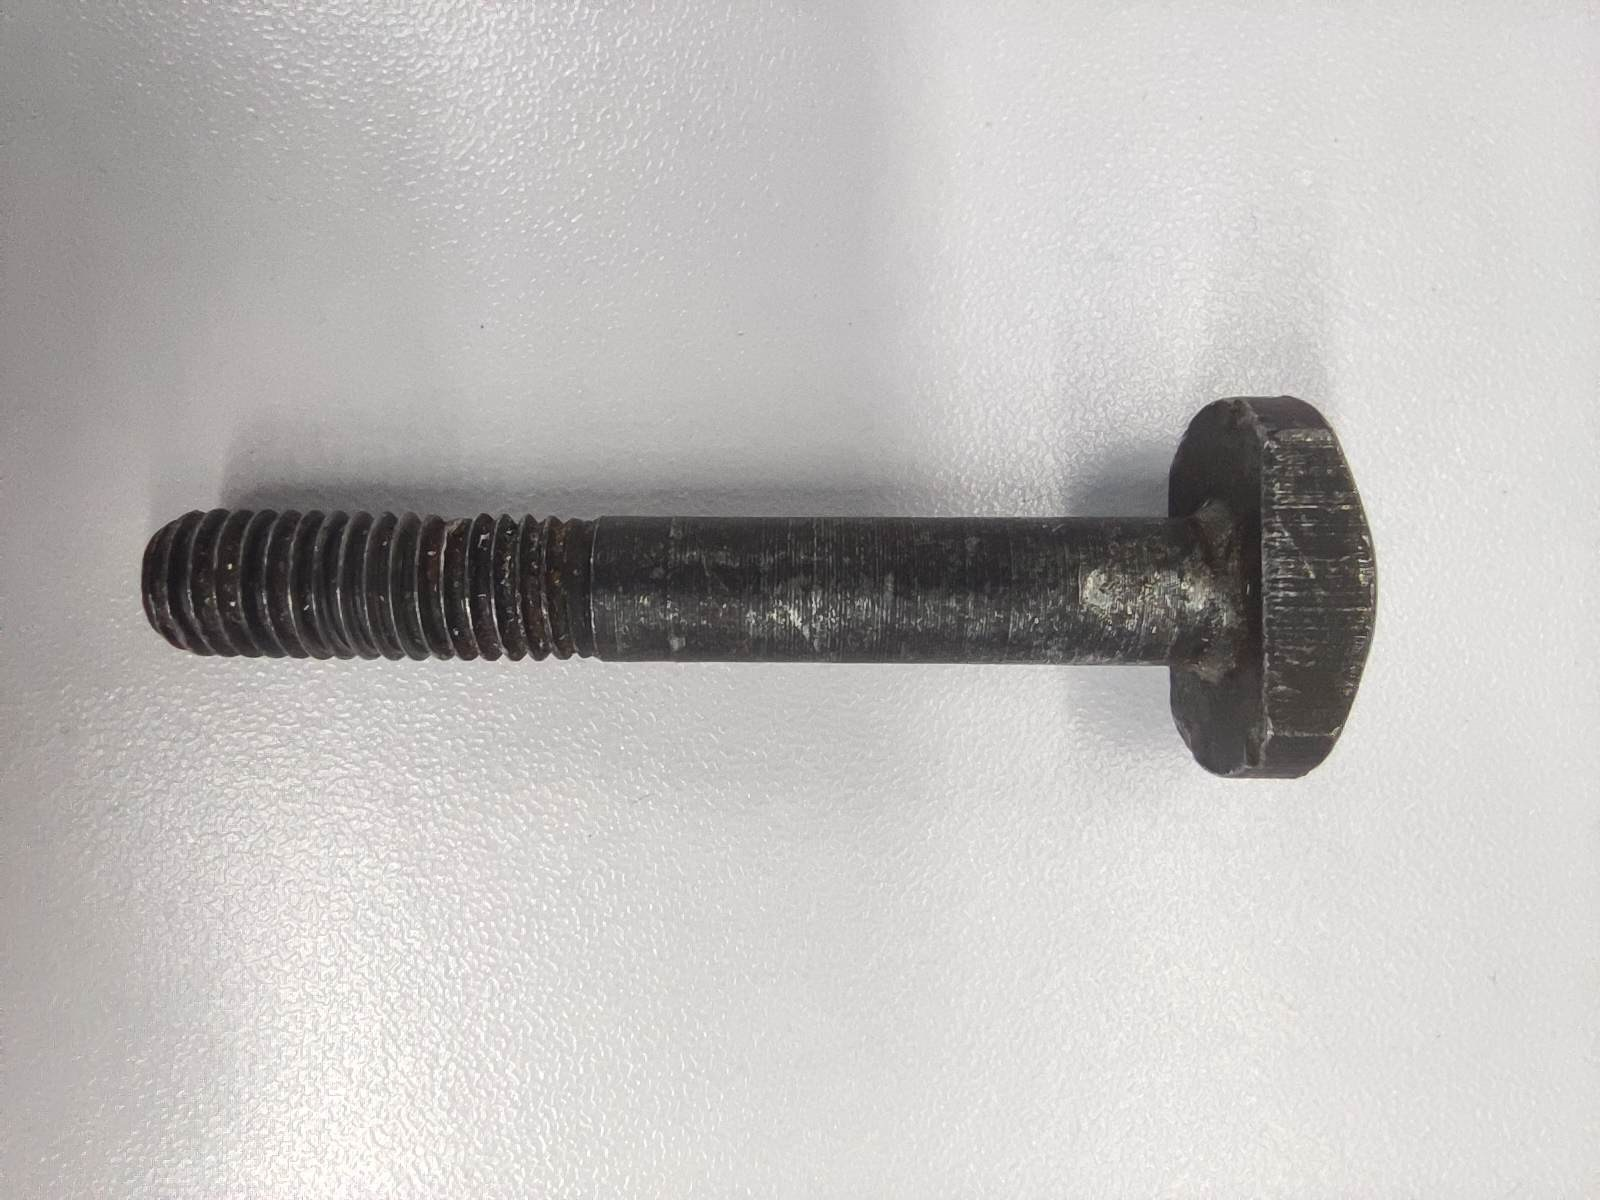T型螺钉: (136, 395, 1380, 780)
